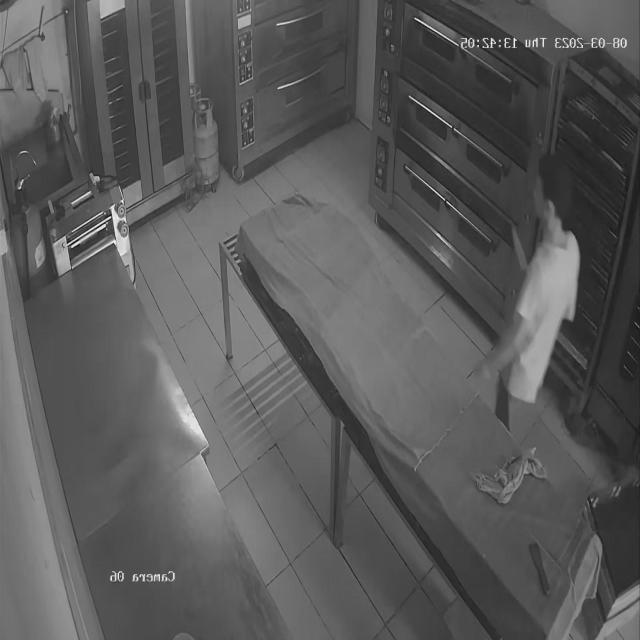Knife: (509, 223, 537, 274)
